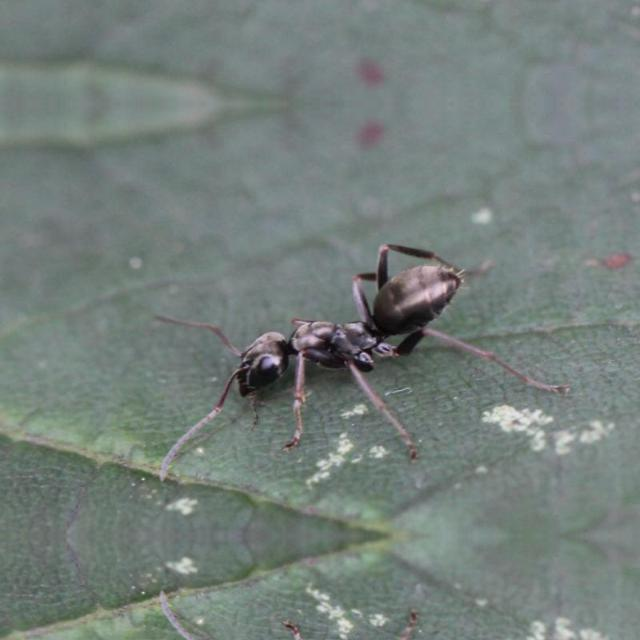Formica: (182, 236, 486, 408)
